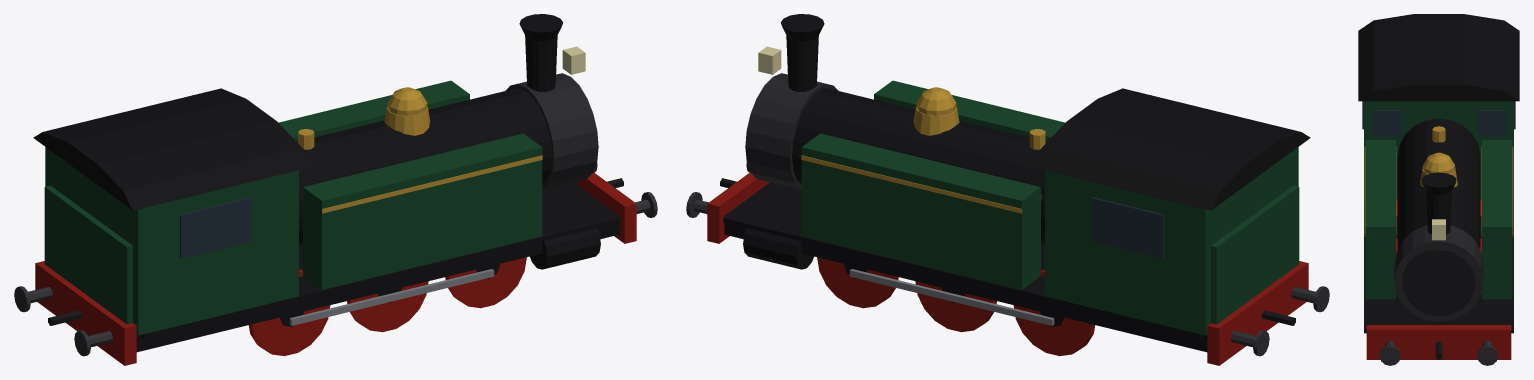
File: steam_loco.obj
3 renders of one model, left to right at view 1: azimuth 30°, elevation 25°; view 2: azimuth 150°, elevation 25°; view 3: azimuth 270°, elevation 25°, orthographic. The views are drawn at different scales.
Size of the model in its own units: 9.6 by 3.92 by 2.9.
